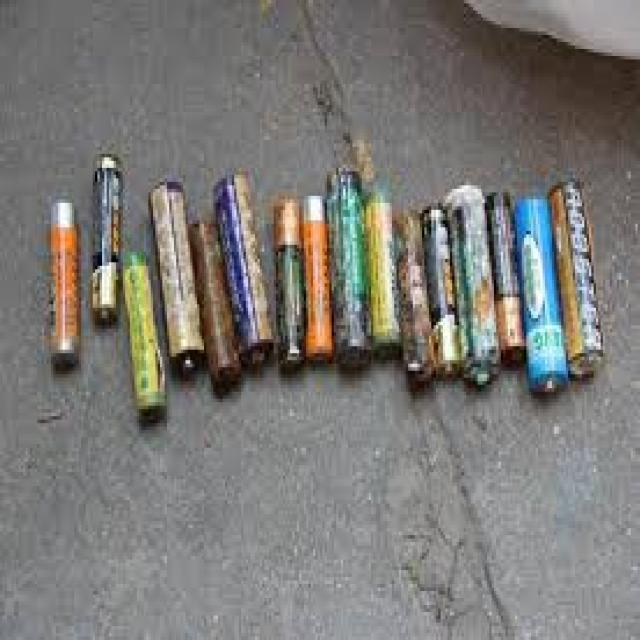battery: (212, 173, 276, 369), (144, 177, 204, 379), (545, 176, 603, 376), (518, 199, 570, 397), (118, 247, 168, 424), (423, 205, 467, 382), (489, 190, 526, 371), (270, 196, 307, 372), (48, 198, 82, 374), (90, 150, 124, 324)
